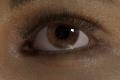eye: (48, 24, 78, 48)
